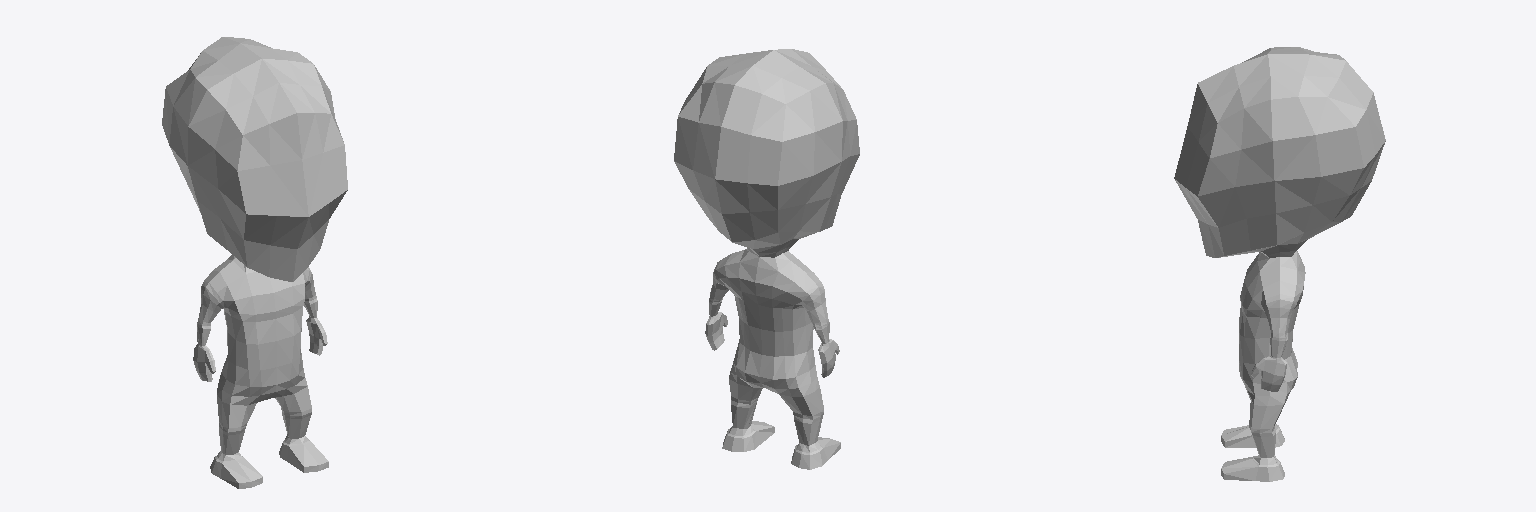
Rendered from character7NPCHOPE.obj.
3 views of the same model, side by side, from view 1: azimuth 30°, elevation 25°; view 2: azimuth 150°, elevation 25°; view 3: azimuth 270°, elevation 25° (orthographic).
Parts seen in each view (by area): view 1: lp_guy_mesh_Cube; view 2: lp_guy_mesh_Cube; view 3: lp_guy_mesh_Cube.
Part boxes in pixels (x1,y1,x2,y2): lp_guy_mesh_Cube: (162,37,347,488); lp_guy_mesh_Cube: (674,49,859,469); lp_guy_mesh_Cube: (1174,47,1385,481).
Bounding box in the file's own units: 0.7344 × 1.99 × 0.9448.